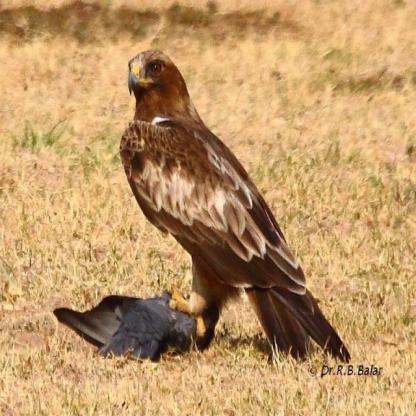Burung: (126, 50, 356, 367)
